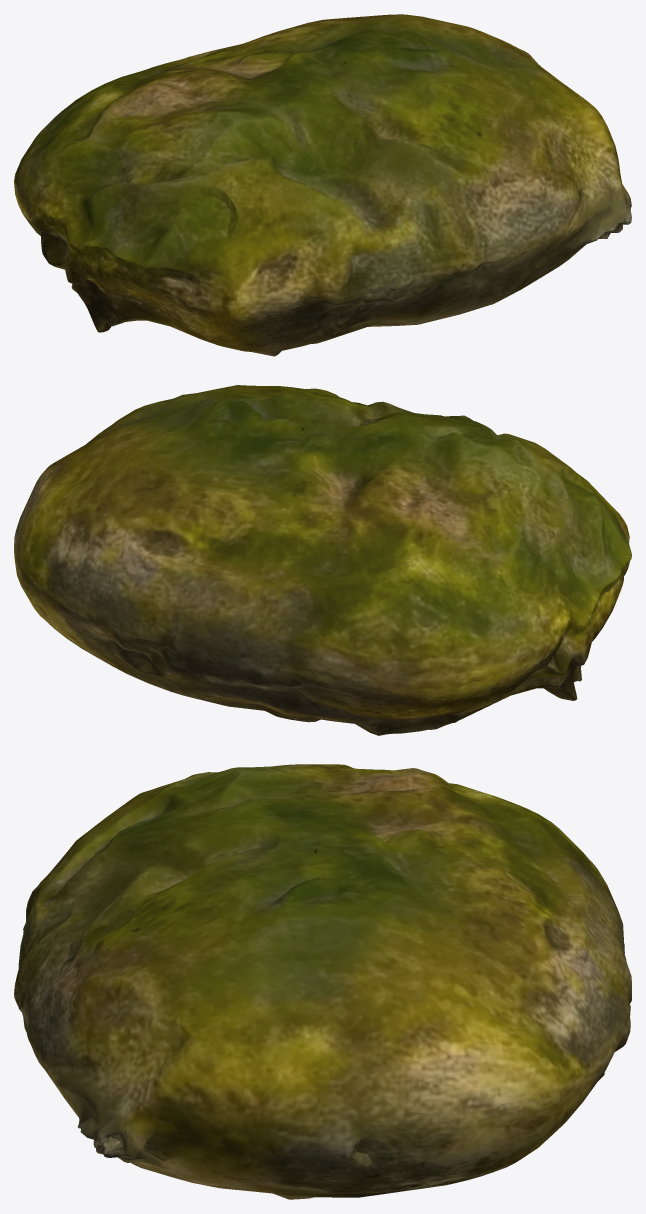
File: r7-biofilm-rock.glb
The picture shows the model from 3 angles, top to bottom: view 1: azimuth 30°, elevation 25°; view 2: azimuth 150°, elevation 25°; view 3: azimuth 270°, elevation 25°; orthographic projection. The views are drawn at different scales.
Visible parts, largest first — view 1: geometry_0; view 2: geometry_0; view 3: geometry_0.
Part boxes in pixels (bbox=[...]): geometry_0: bbox=[14, 14, 631, 356]; geometry_0: bbox=[14, 385, 631, 735]; geometry_0: bbox=[14, 764, 631, 1199].
Bounding box in the file's own units: 0.3499 × 0.1357 × 0.295.
1 material, 1 textured.
